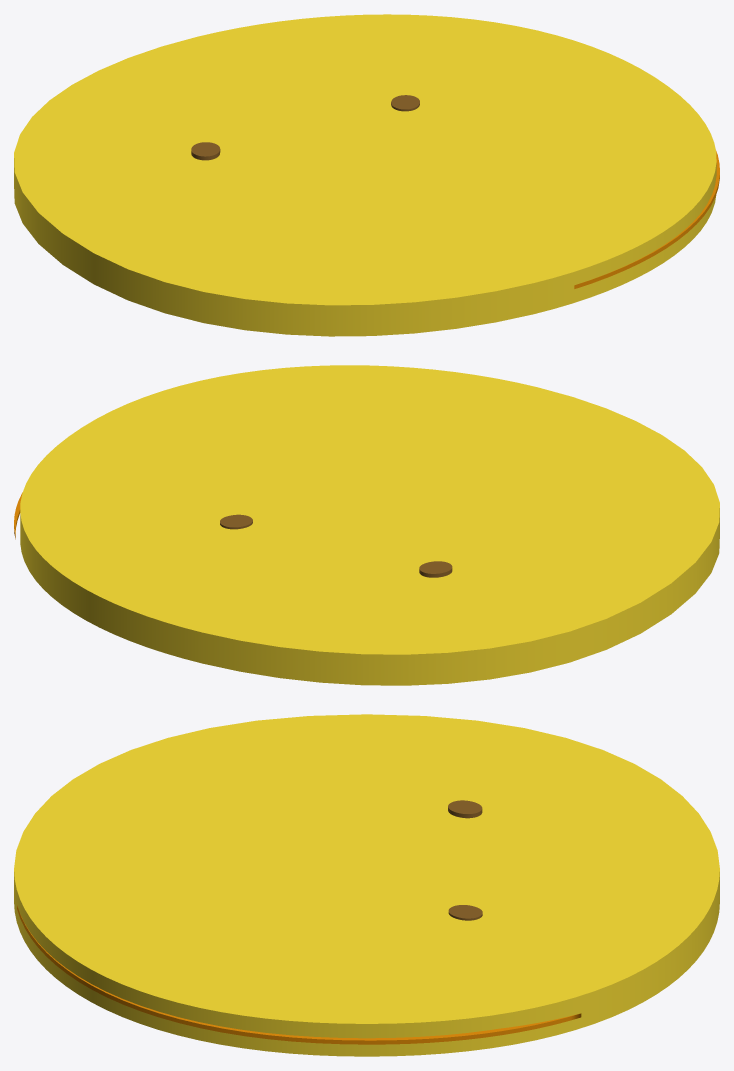
File: emoji_u1f62c.glb
3 renders of one model, top to bottom at view 1: azimuth 30°, elevation 25°; view 2: azimuth 150°, elevation 25°; view 3: azimuth 270°, elevation 25°, orthographic. The views are drawn at different scales.
Parts seen in each view (by area): view 1: emoji_u1f62c; view 2: emoji_u1f62c; view 3: emoji_u1f62c.
Part boxes in pixels (box(x1,y1,x2,y2)): emoji_u1f62c: box(14, 14, 719, 336); emoji_u1f62c: box(14, 365, 719, 685); emoji_u1f62c: box(14, 714, 719, 1056).
Bounding box in the file's own units: 0.0327 × 0.002 × 0.0313.
